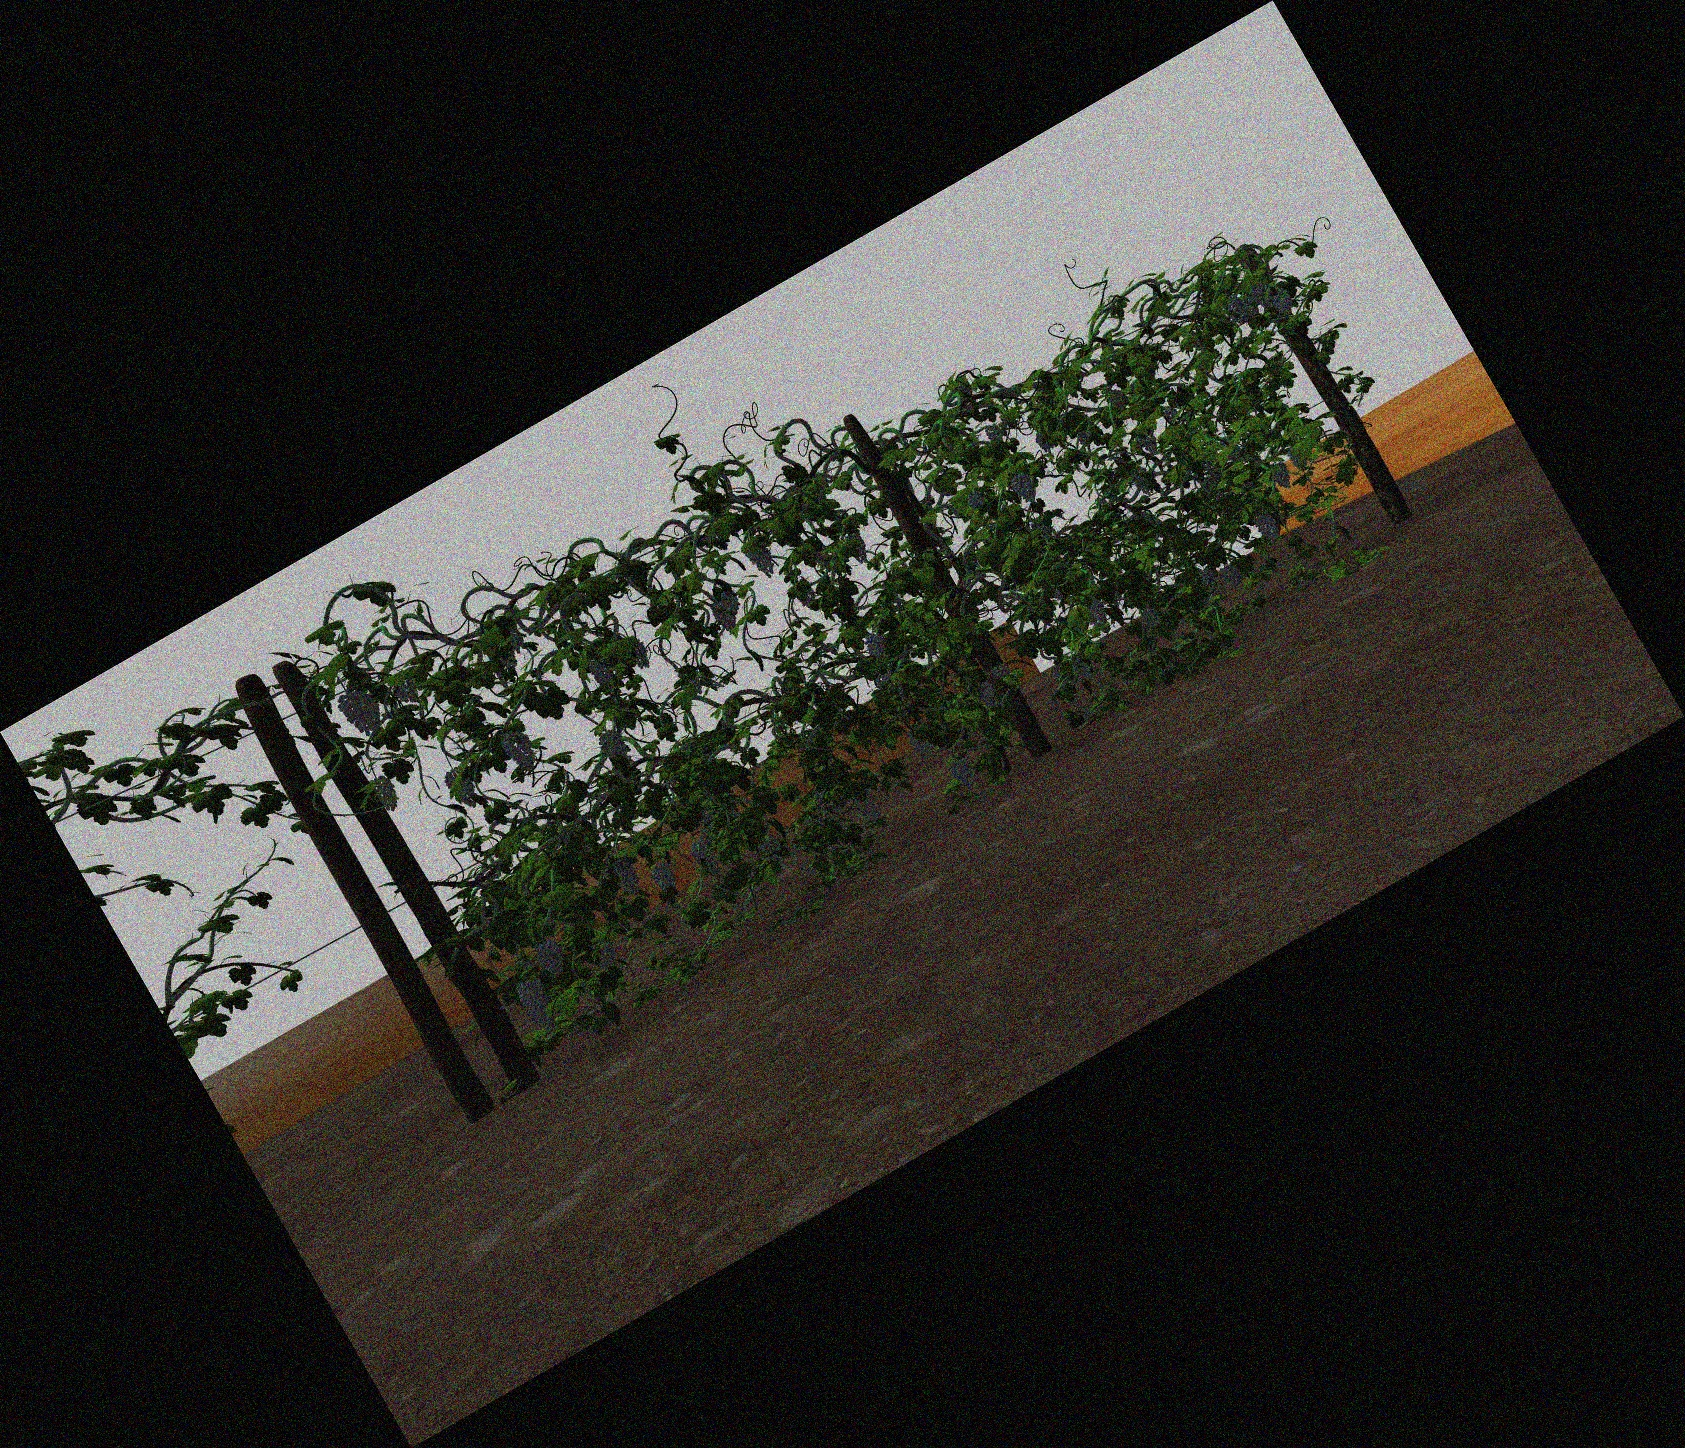grape: (344, 689, 378, 733), (507, 729, 533, 771), (451, 768, 476, 808), (539, 940, 562, 974), (751, 541, 772, 577), (618, 859, 638, 897), (377, 776, 398, 811), (532, 1003, 556, 1033), (519, 980, 544, 1007), (602, 730, 625, 759), (696, 839, 715, 874), (1258, 511, 1278, 541), (858, 791, 877, 822), (1014, 473, 1034, 501), (1226, 294, 1245, 324), (655, 864, 675, 891), (953, 758, 971, 786), (716, 602, 734, 632), (597, 944, 618, 970), (592, 660, 610, 687), (630, 642, 649, 669), (397, 680, 418, 703), (850, 534, 867, 563), (1224, 564, 1244, 589), (980, 683, 999, 709), (911, 730, 928, 758), (1272, 461, 1290, 488), (865, 634, 885, 657), (1141, 430, 1159, 454), (1254, 282, 1272, 307), (761, 839, 782, 859), (1089, 602, 1106, 624), (1277, 289, 1292, 314), (1075, 659, 1090, 680), (724, 592, 738, 613), (1201, 566, 1215, 587), (1292, 448, 1305, 471), (1142, 607, 1158, 626), (986, 424, 1002, 440), (969, 493, 984, 507), (992, 665, 1009, 677), (875, 675, 888, 686)
